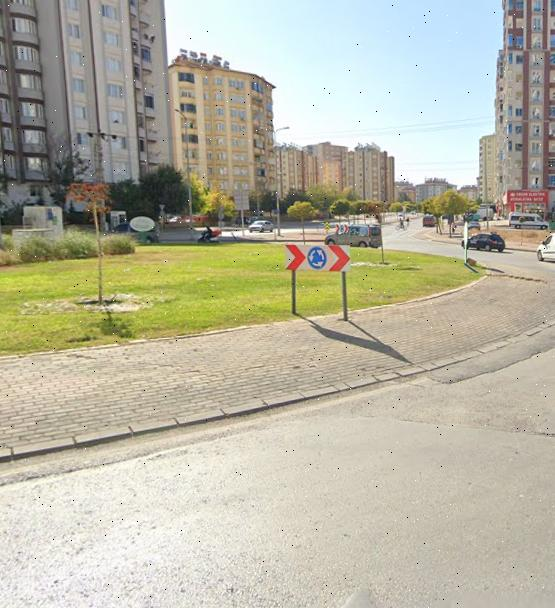crossroads: (307, 245, 327, 270)
